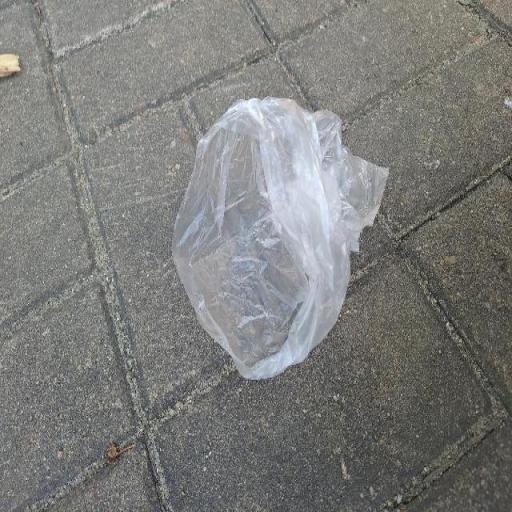plastic-bag: (168, 92, 390, 382)
